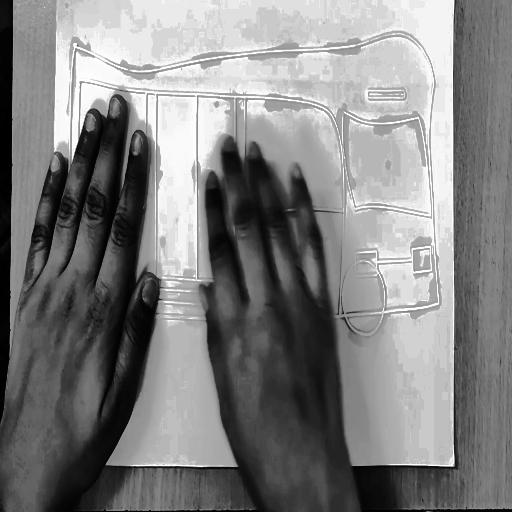bottom_left: (47, 457, 59, 471)
bottom_right: (451, 458, 457, 471)
bus: (60, 26, 452, 340)
